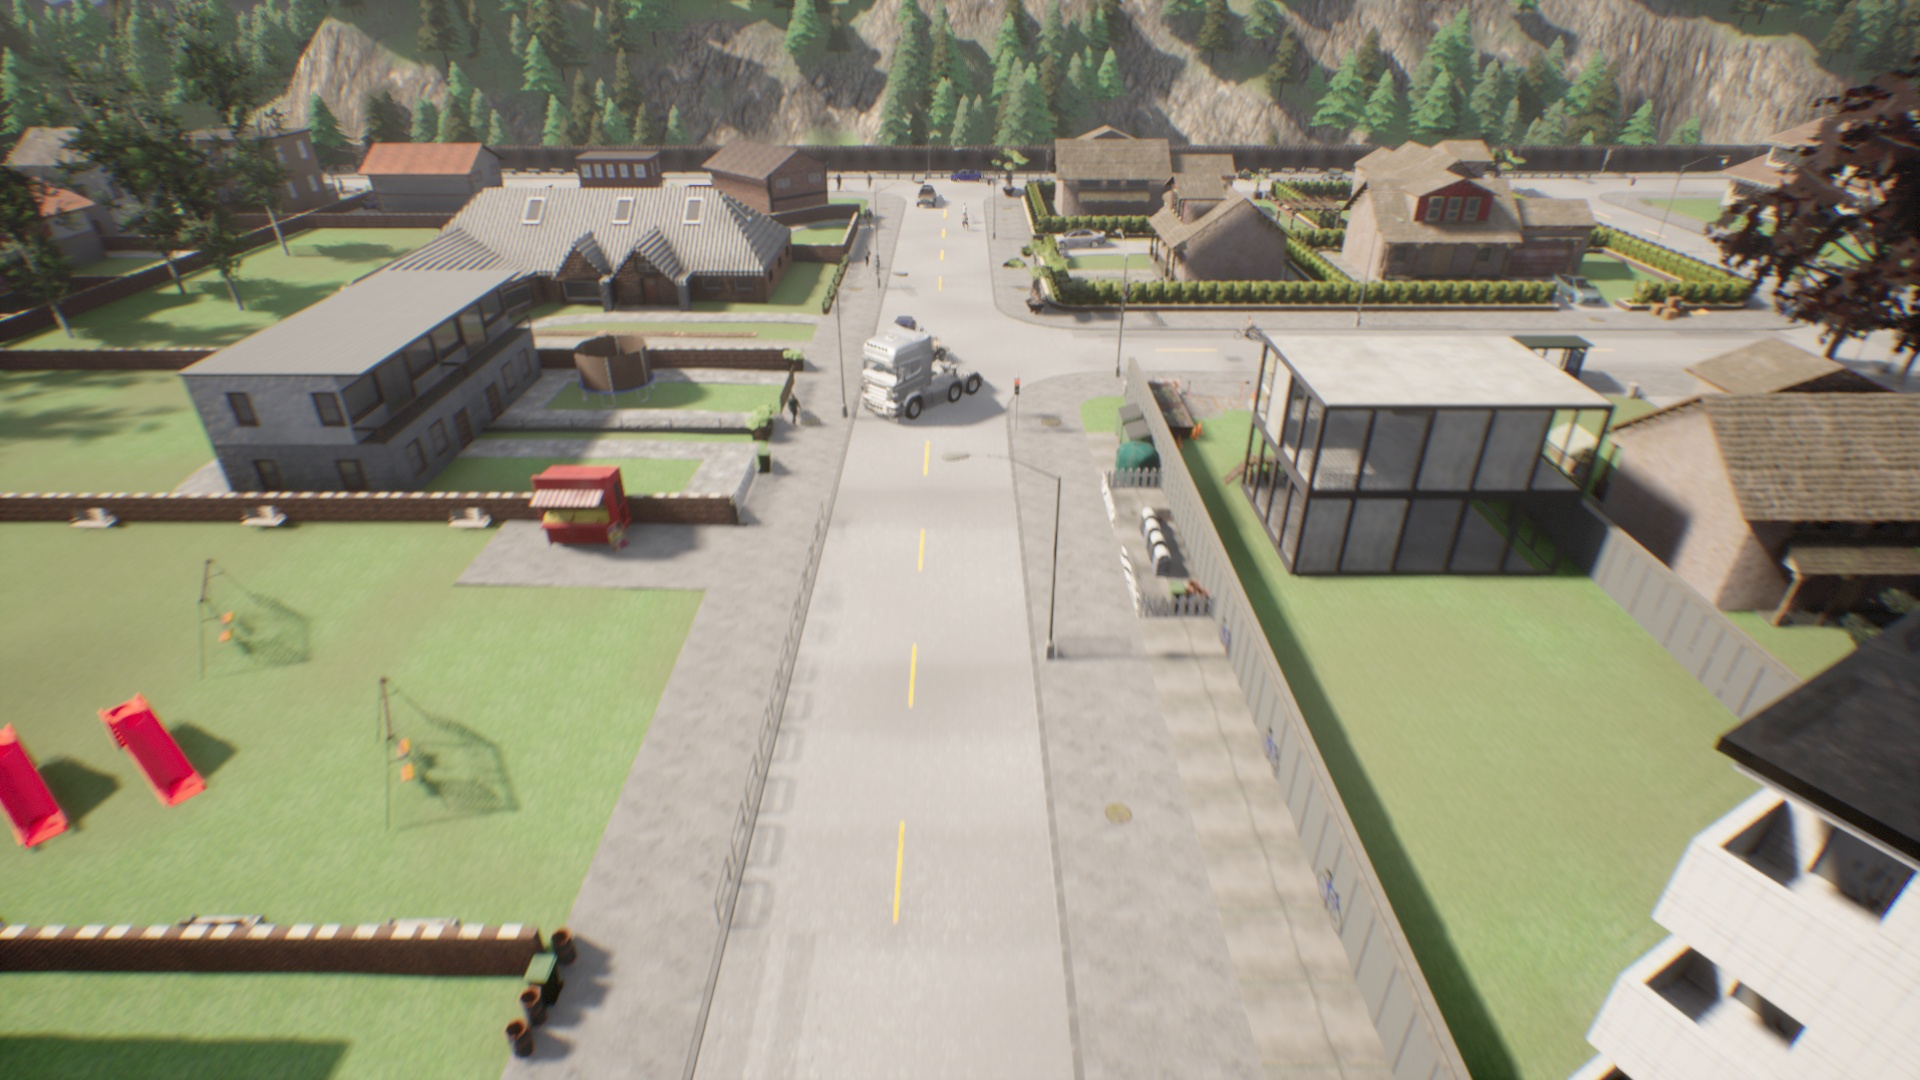Car: (1555, 270, 1604, 311), (1045, 225, 1114, 248), (915, 185, 943, 215), (950, 165, 984, 186)
Truck: (858, 337, 989, 426)
